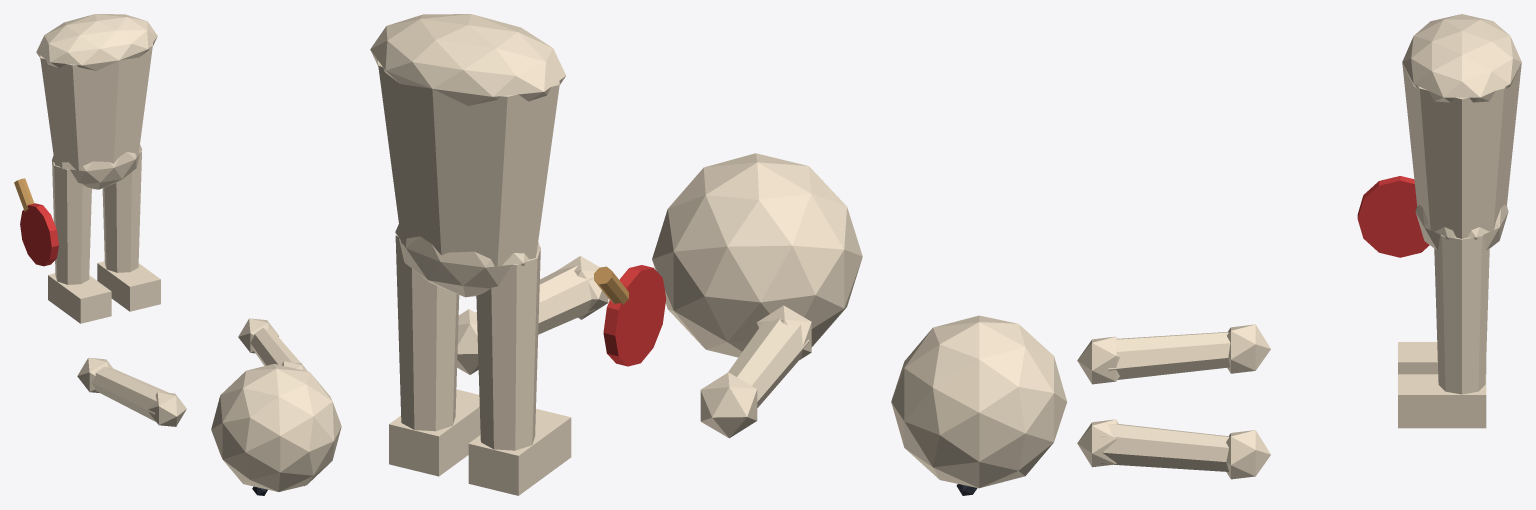
The model's file is athlete_pingpong.fbx.
The picture shows the model from 3 angles, left to right: view 1: azimuth 30°, elevation 25°; view 2: azimuth 150°, elevation 25°; view 3: azimuth 270°, elevation 25°; orthographic projection. The views are drawn at different scales.
Parts seen in each view (by area): view 1: Torso, Head, LegR, LegL, ArmR, Item, ArmL; view 2: Torso, Head, LegR, LegL, ArmR, Item, ArmL; view 3: Head, Torso, LegL, ArmL, ArmR, Item, LegR.
Part boxes in pixels (<box>): Torso: <box>36,14,157,189</box>; Head: <box>211,364,341,495</box>; LegR: <box>48,159,111,323</box>; LegL: <box>97,150,160,311</box>; ArmR: <box>77,357,186,426</box>; Item: <box>14,178,58,266</box>; ArmL: <box>238,318,307,371</box>; Torso: <box>370,14,566,297</box>; Head: <box>652,153,862,357</box>; LegR: <box>468,247,571,495</box>; LegL: <box>389,234,480,476</box>; ArmR: <box>700,305,811,438</box>; Item: <box>594,265,666,366</box>; ArmL: <box>457,256,608,374</box>; Head: <box>891,315,1066,495</box>; Torso: <box>1402,14,1521,250</box>; LegL: <box>1398,234,1489,428</box>; ArmL: <box>1077,419,1270,479</box>; ArmR: <box>1077,324,1270,384</box>; Item: <box>1357,176,1429,257</box>; LegR: <box>1398,342,1486,374</box>.
Bounding box in the file's own units: 1.06 × 1.75 × 2.22.
